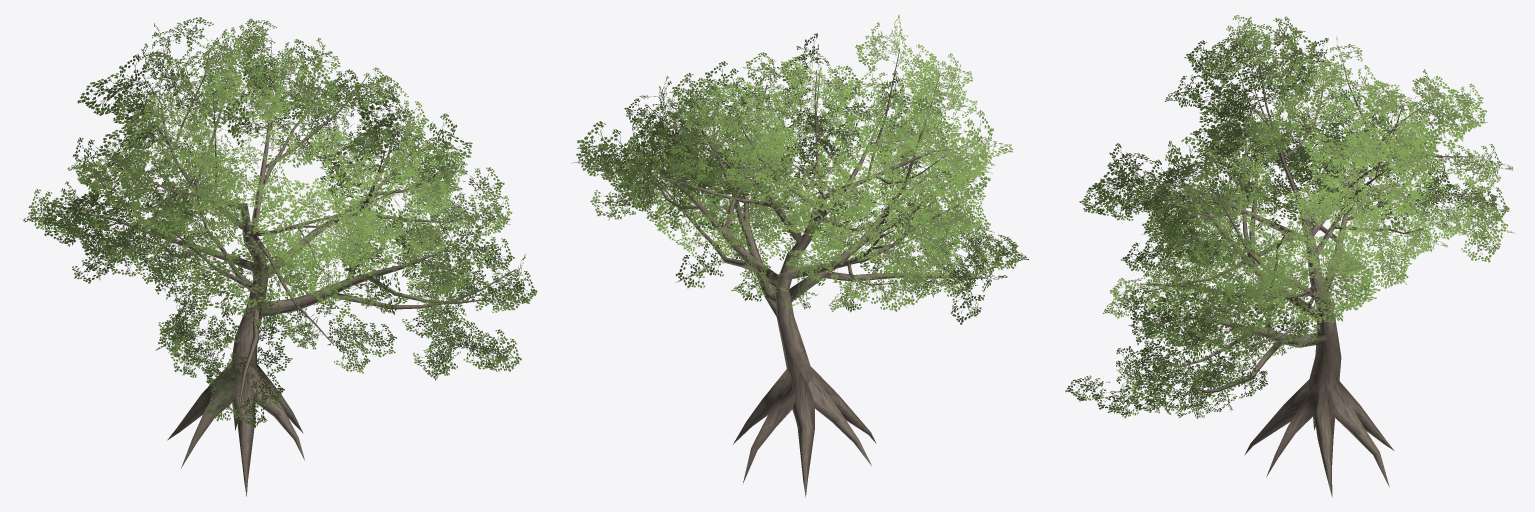
File: tree_Maple_LOD1.fbx
3 renders of one model, left to right at view 1: azimuth 30°, elevation 25°; view 2: azimuth 150°, elevation 25°; view 3: azimuth 270°, elevation 25°, orthographic.
Parts seen in each view (by area): view 1: Maple_LOD1; view 2: Maple_LOD1; view 3: Maple_LOD1.
Boxes of the visible parts, x1,y1,x2,y2 form: Maple_LOD1: [23, 17, 537, 496]; Maple_LOD1: [571, 14, 1028, 497]; Maple_LOD1: [1065, 15, 1514, 497].
Bounding box in the file's own units: 1551 × 1548 × 1483.
